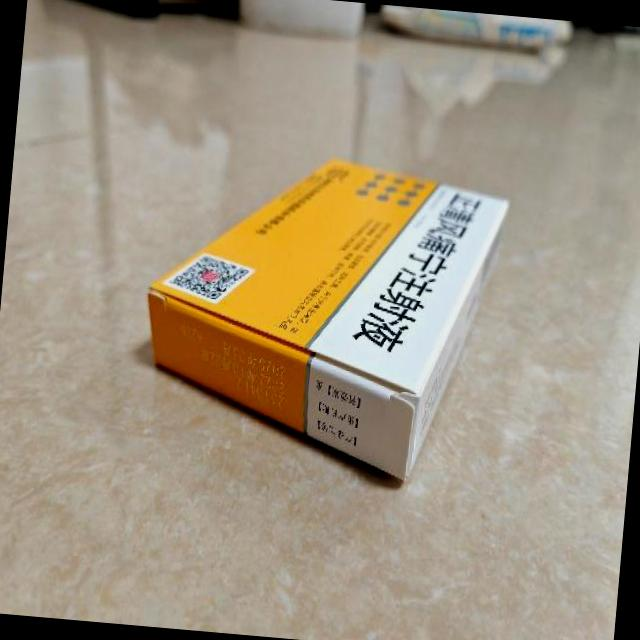box: (131, 142, 511, 492)
